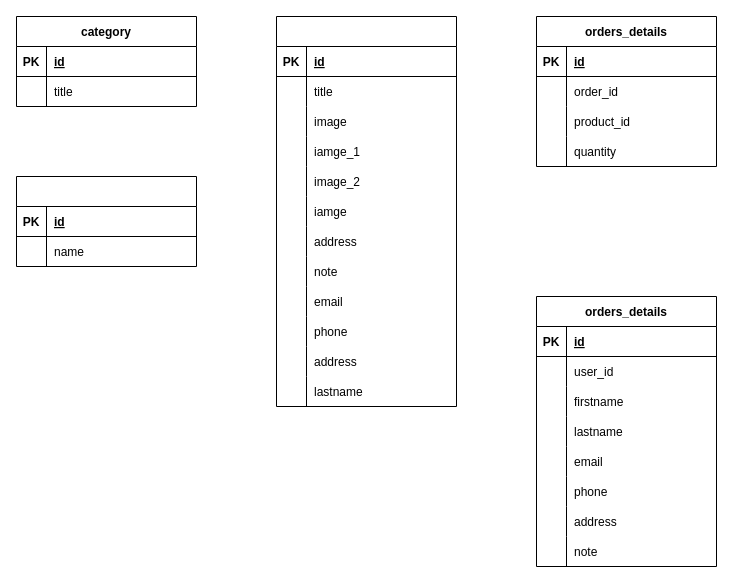
Image size: 733x583. Some labels were removed from this diagram. The box of each missing label's shape, as (x1, y1, x2, y2) in pixels:
classify: (16, 176, 196, 266)
products: (276, 16, 456, 406)
